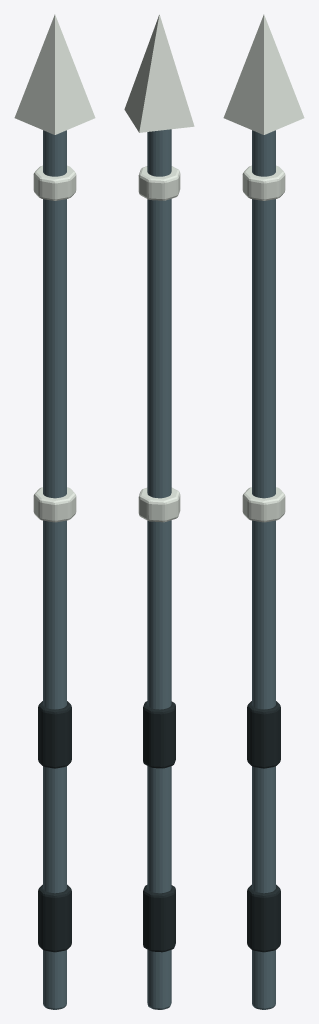
The model's file is pole_spire.glb.
3 views of the same model, side by side, from view 1: azimuth 90°, elevation 25°; view 2: azimuth 150°, elevation 25°; view 3: azimuth 270°, elevation 25° (orthographic).
Parts seen in each view (by area): view 1: Pole shaft.008, Spire finial.002, Grip collar.016, Grip collar.017, Hoist latch.016, Hoist latch.017; view 2: Pole shaft.008, Spire finial.002, Grip collar.017, Grip collar.016, Hoist latch.017, Hoist latch.016; view 3: Pole shaft.008, Spire finial.002, Grip collar.016, Grip collar.017, Hoist latch.016, Hoist latch.017.
Boxes of the visible parts, x1,y1,x2,y2 form: Pole shaft.008: (43, 130, 66, 1009); Spire finial.002: (14, 14, 95, 134); Grip collar.016: (38, 884, 71, 952); Grip collar.017: (38, 701, 71, 768); Hoist latch.016: (33, 487, 76, 522); Hoist latch.017: (33, 165, 76, 200); Pole shaft.008: (147, 129, 171, 1009); Spire finial.002: (124, 14, 194, 132); Grip collar.017: (143, 701, 175, 768); Grip collar.016: (143, 885, 175, 952); Hoist latch.017: (138, 166, 180, 200); Hoist latch.016: (138, 487, 180, 522); Pole shaft.008: (252, 130, 275, 1009); Spire finial.002: (223, 14, 304, 134); Grip collar.016: (247, 884, 280, 952); Grip collar.017: (247, 701, 280, 768); Hoist latch.016: (242, 487, 285, 522); Hoist latch.017: (242, 165, 285, 200).
Bounding box in the file's own units: 0.24 × 3.24 × 0.24.
